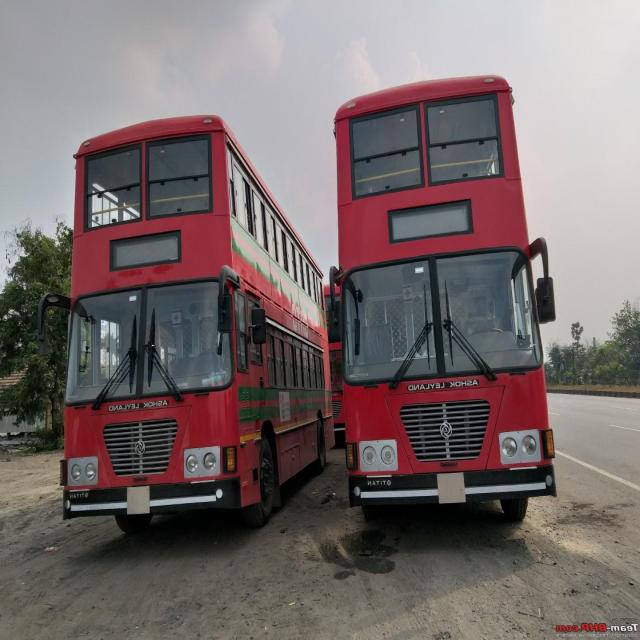Double decker: (40, 99, 341, 552), (327, 59, 565, 540)
